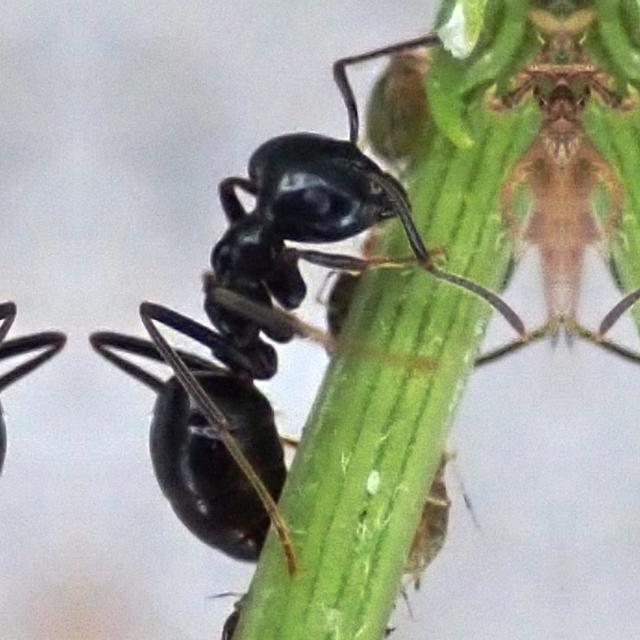Lasius: (127, 114, 459, 566)
